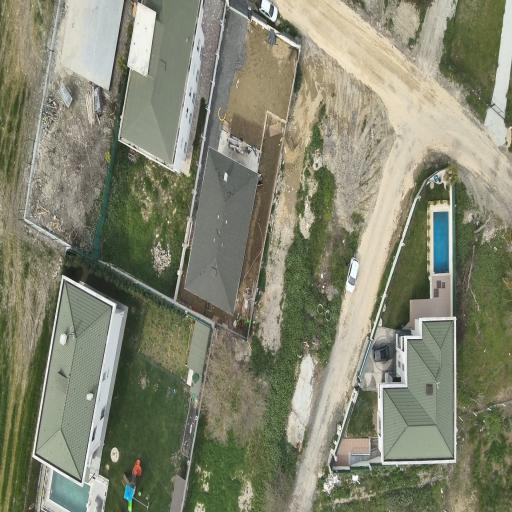car: (346, 258, 359, 292), (259, 0, 278, 21), (374, 345, 390, 362)
